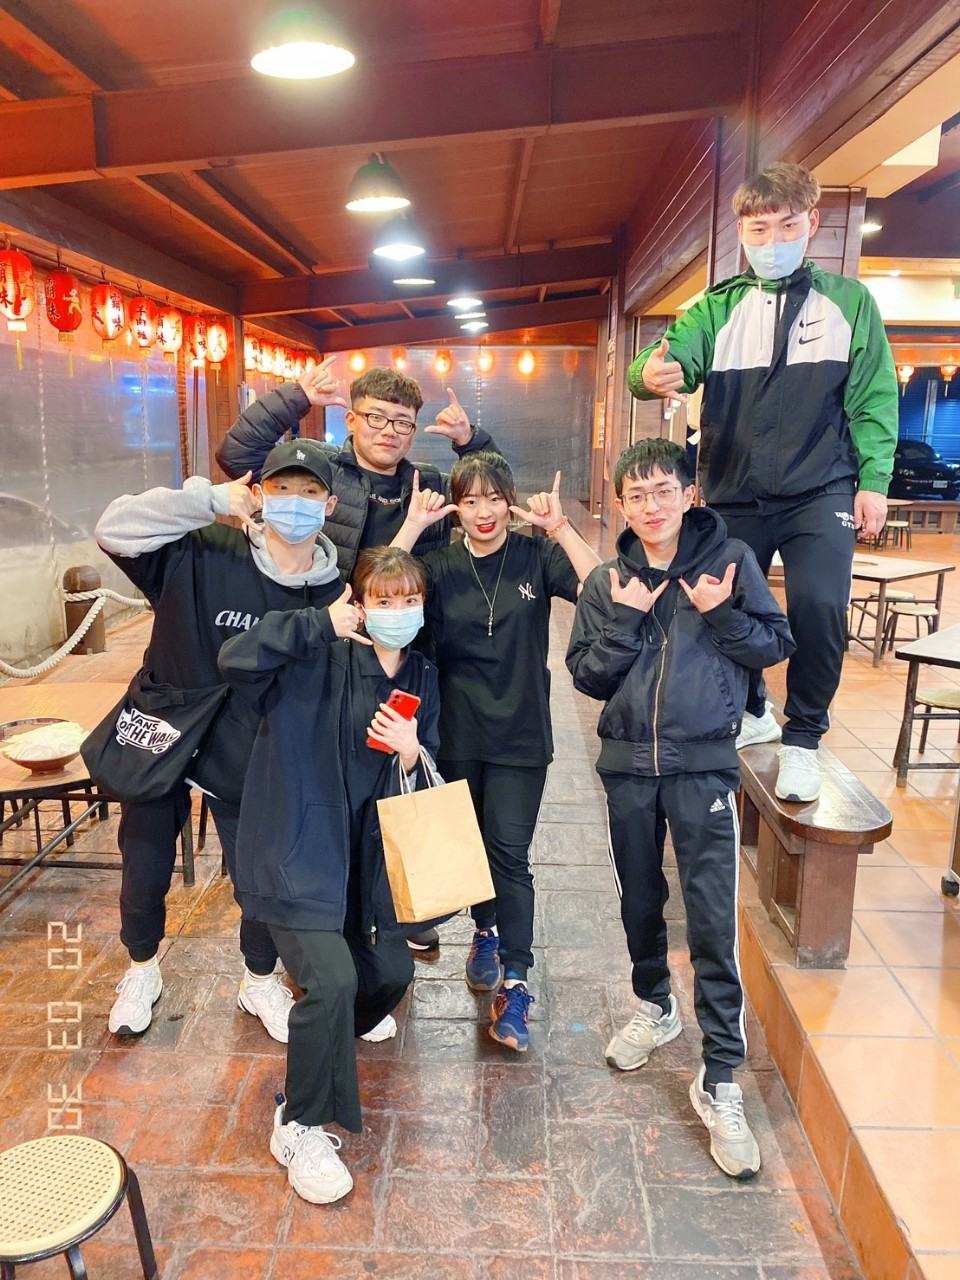people: (685, 165, 901, 806), (589, 451, 772, 1186), (115, 451, 338, 1037), (240, 563, 436, 1210), (442, 441, 550, 1065), (313, 374, 444, 568)
